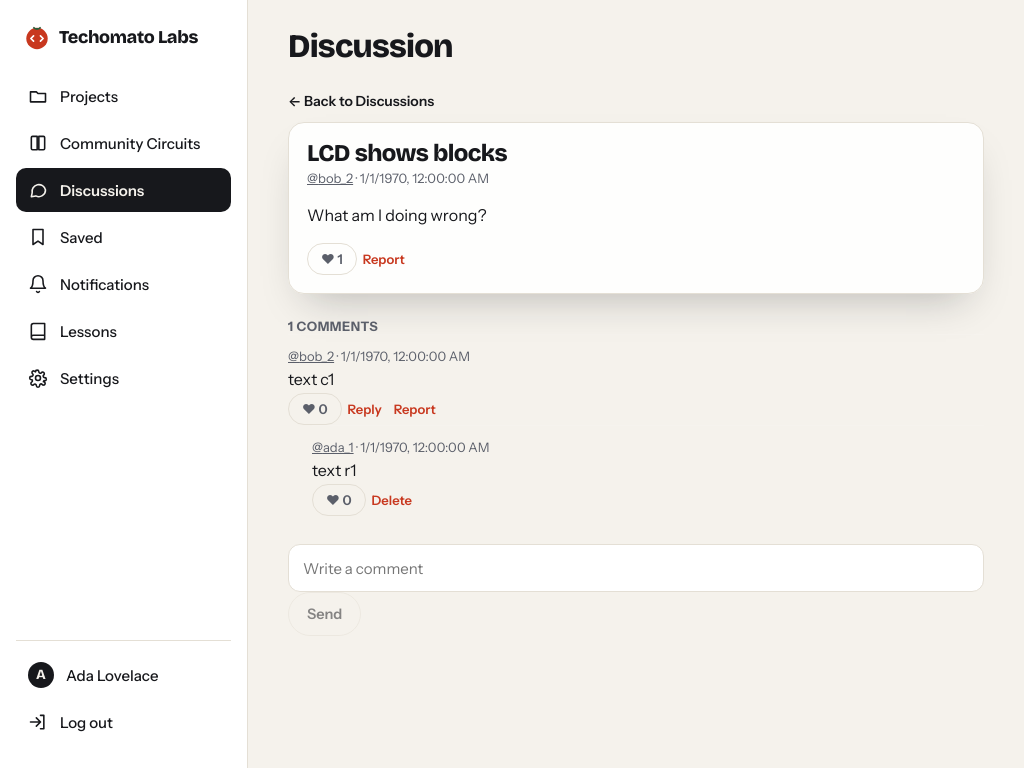
Scenario: ThreadPage › likes the thread and a comment, and only offers delete on your own posts
The image size is (1024, 768).
Later steps or results of the test are not shown.
Expected: the heading "LCD shows blocks" is shown, [307,139,507,167]
Click the button "♥ 1".
click(332, 259)  # box [307,243,357,275]
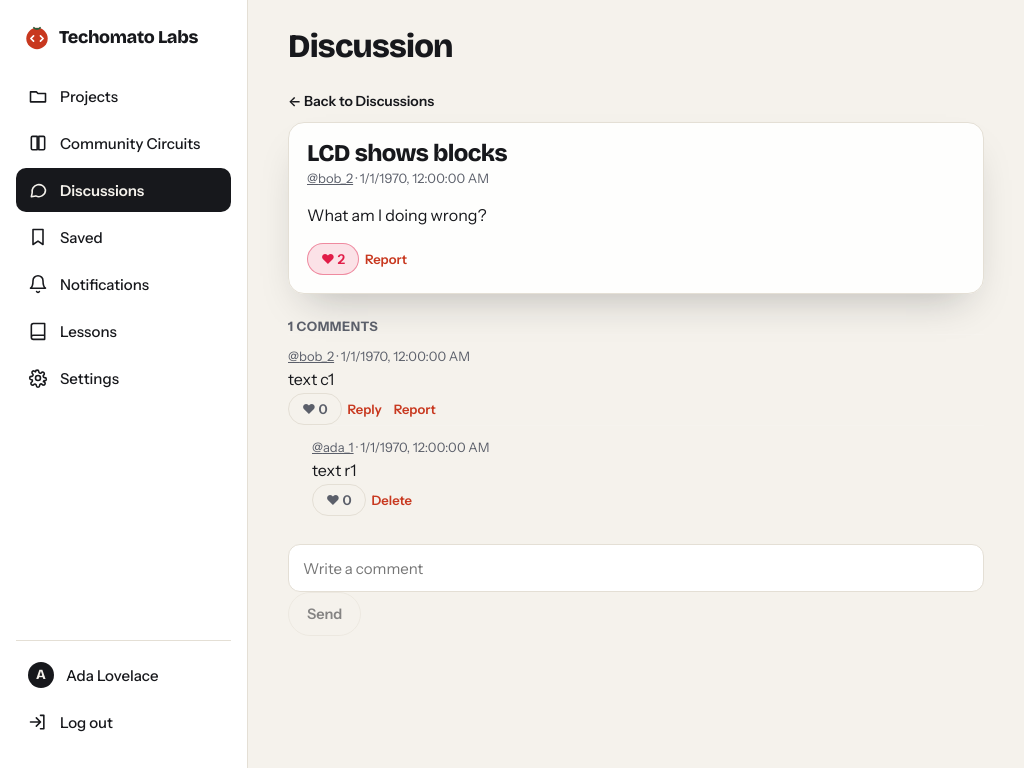
Expected: the number of buttons "Delete" is 1, [366,486,418,514]
Expected: the button "♥ 2" is shown, [307,243,359,275]
